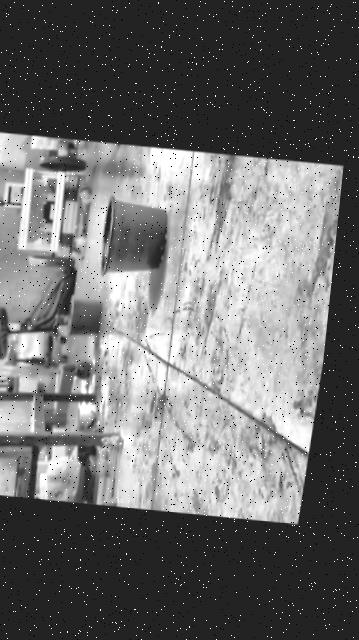pot: (93, 195, 169, 281), (64, 298, 102, 339)
